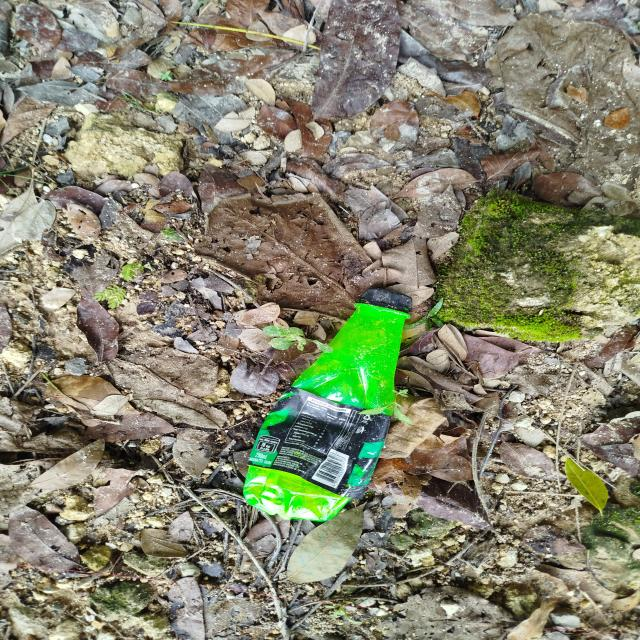plastic: (237, 279, 429, 522)
